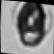correct: (8, 1, 54, 53)
